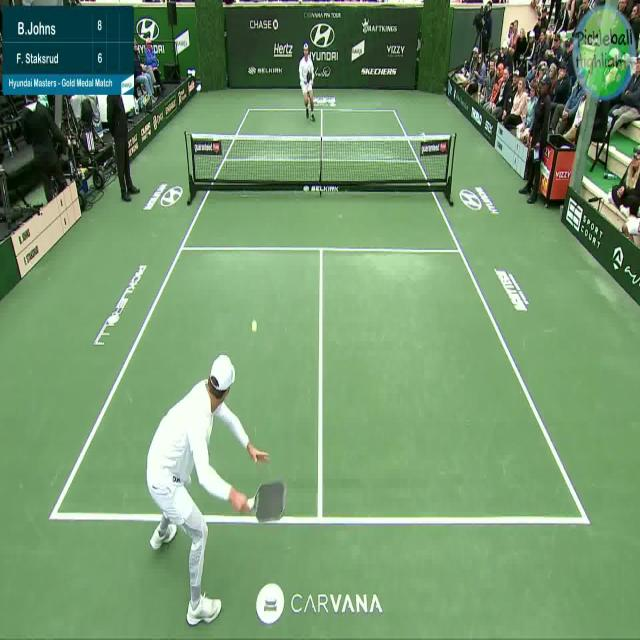ball: (250, 318, 257, 334)
